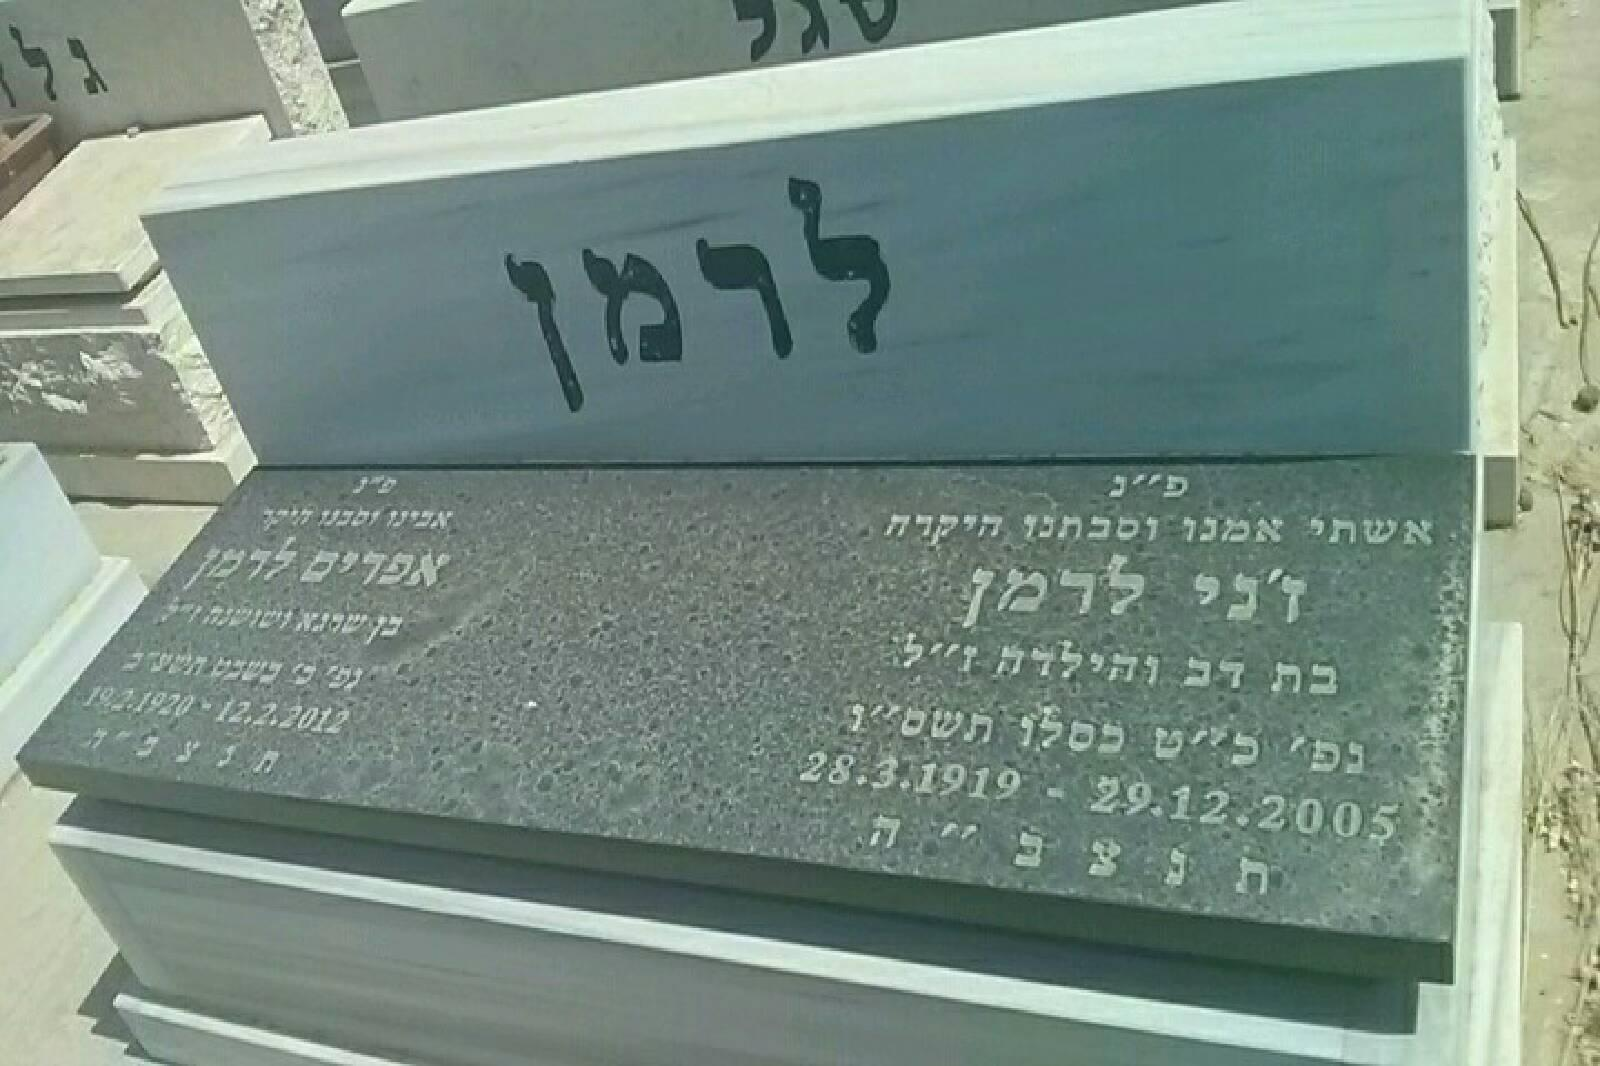vault: (42, 0, 1586, 1066)
